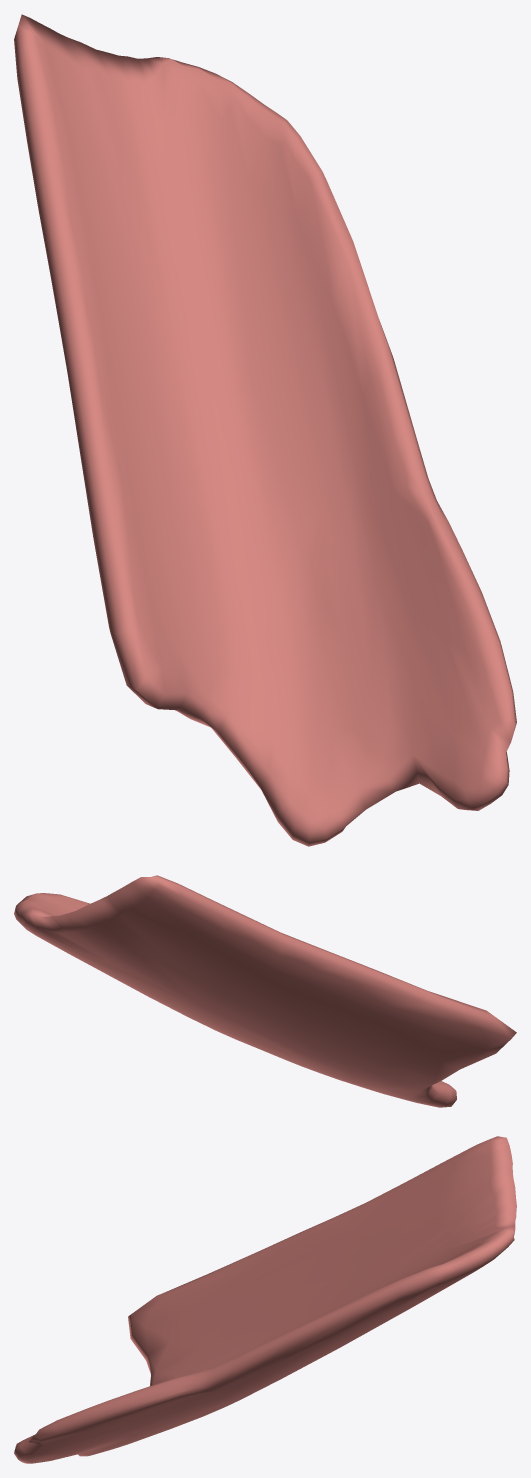
3 views of the same model, one above another, from view 1: azimuth 30°, elevation 25°; view 2: azimuth 150°, elevation 25°; view 3: azimuth 270°, elevation 25° (orthographic). The views are drawn at different scales.
Visible parts, largest first — view 1: ZA_f49c9717d0ecf388; view 2: ZA_f49c9717d0ecf388; view 3: ZA_f49c9717d0ecf388.
Boxes of the visible parts, x1,y1,x2,y2 form: ZA_f49c9717d0ecf388: [14, 14, 516, 846]; ZA_f49c9717d0ecf388: [14, 875, 516, 1107]; ZA_f49c9717d0ecf388: [14, 1136, 516, 1463].
Size of the model in its own units: 0.00697 by 0.00883 by 0.0121.
